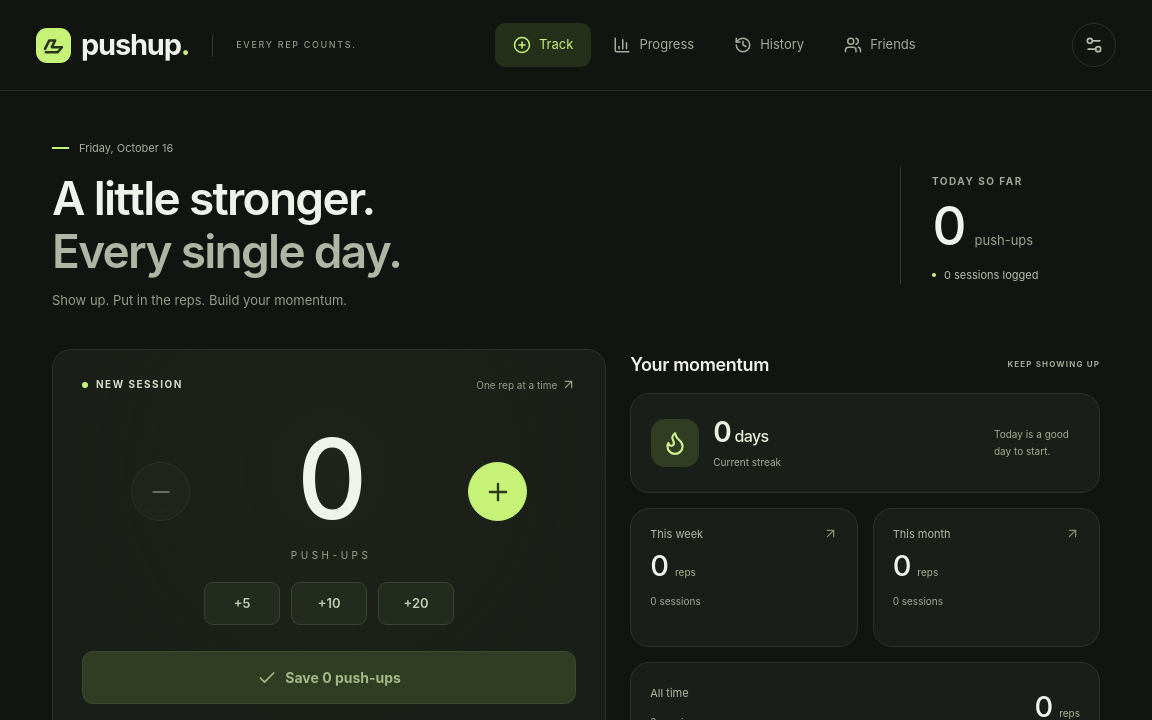
Test: session workflow › starts at zero, prevents negative counts and saves one session
Expected: the button "Save 0 push-ups" is disabled, [82,651,576,704]
Expected: the button named "Subtract 1 push-up" is disabled, [131,462,190,521]
Click the button "+10" at (329, 604), box [291,582,367,625]
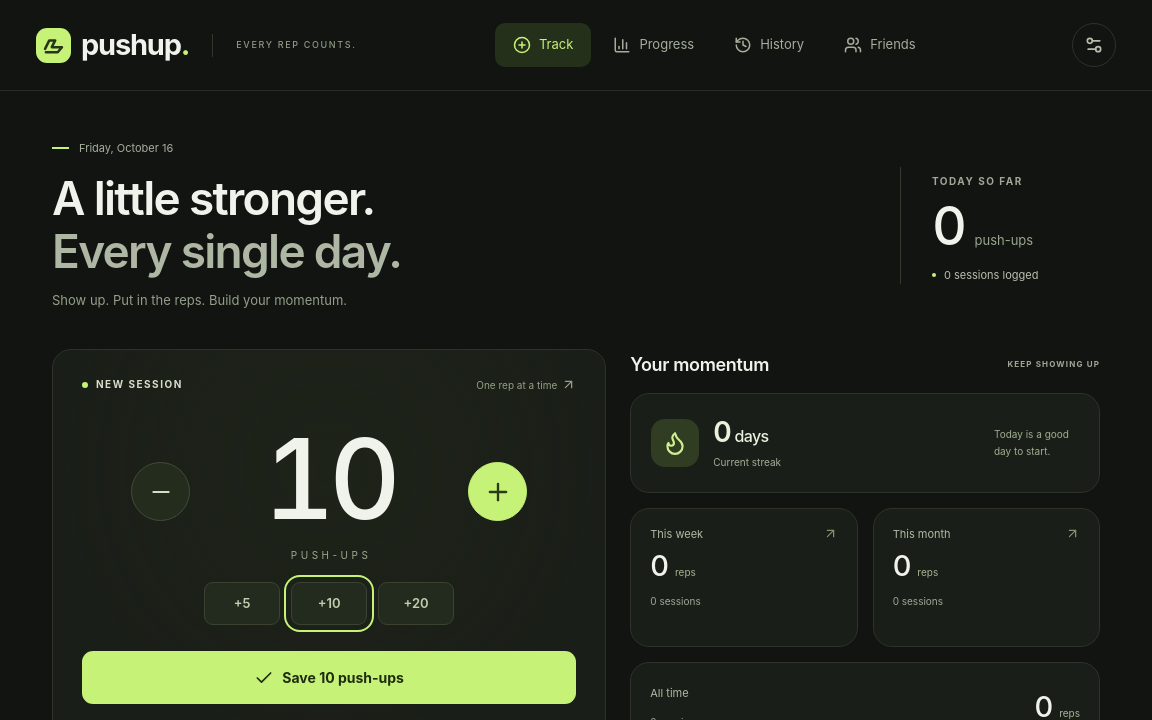
Click the button named "Add 1 push-up" at (498, 492), box [468,462,527,521]
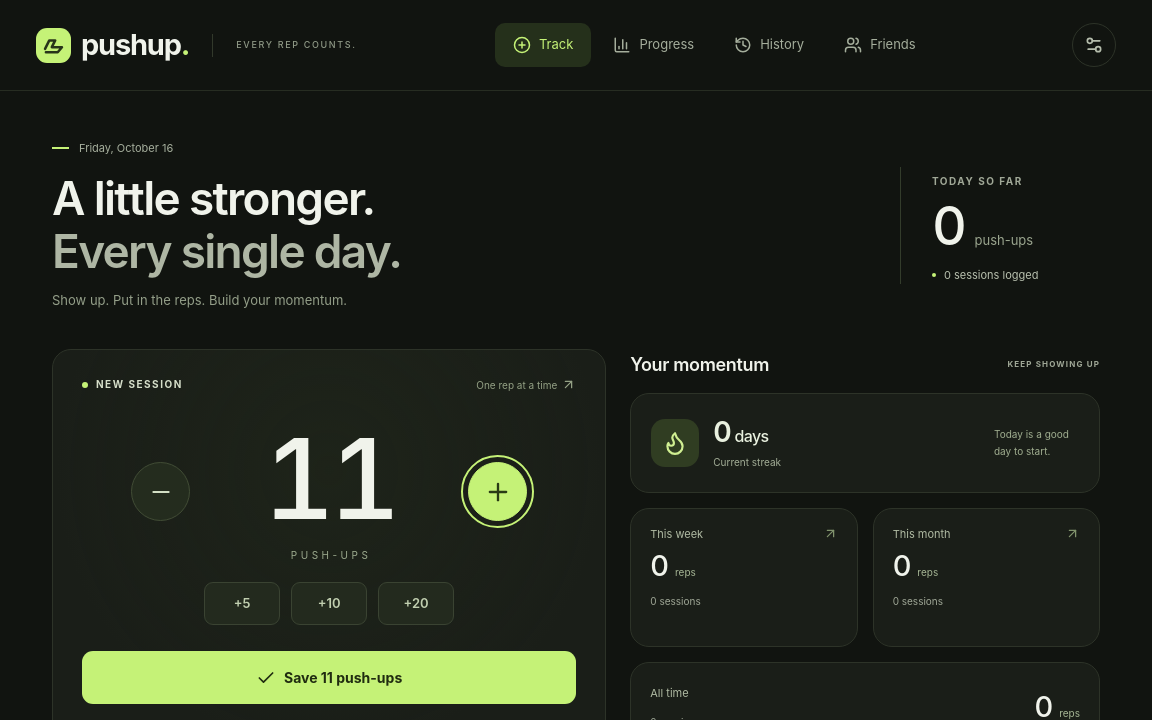
Click the button named "Subtract 1 push-up" at (161, 492), box [131,462,190,521]
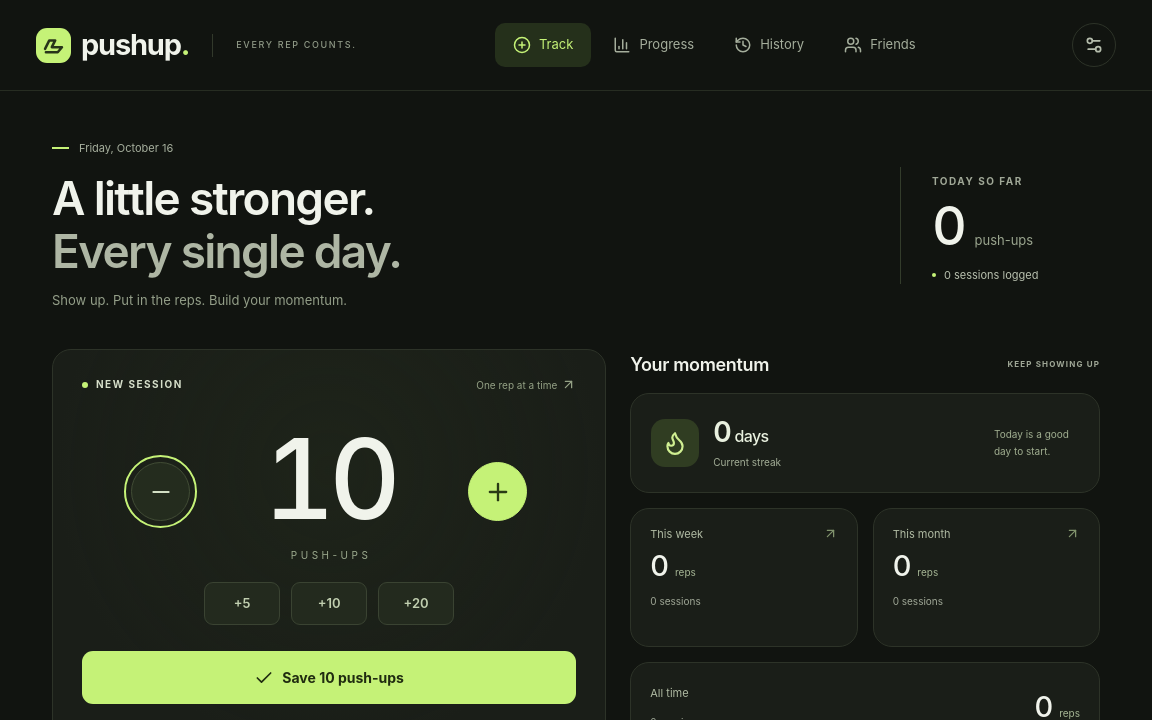
Expected: the text named "Current session reps" reads "10", [263,411,395,546]
Click the button "Save 10 push-ups" at (329, 678), box [82,651,576,704]
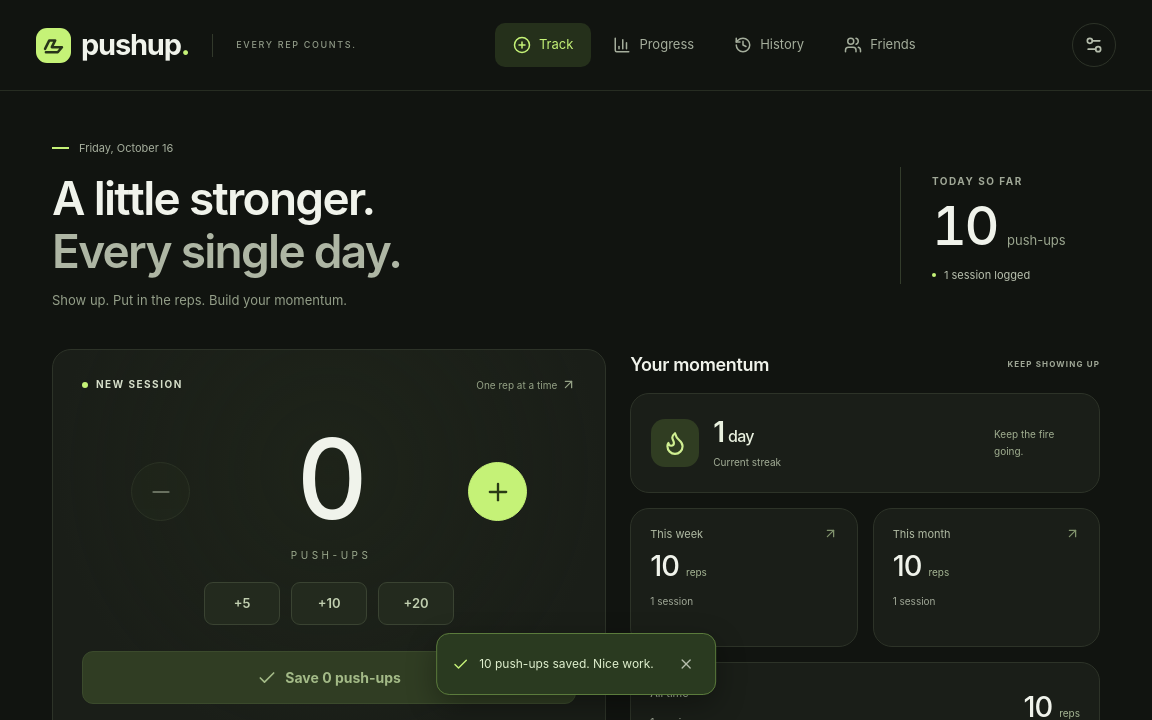
Expected: the text named "Current session reps" reads "0", [296,420,362,537]
Expected: the element named "Today’s summary" shows "1 session logged", [944,268,1030,282]
